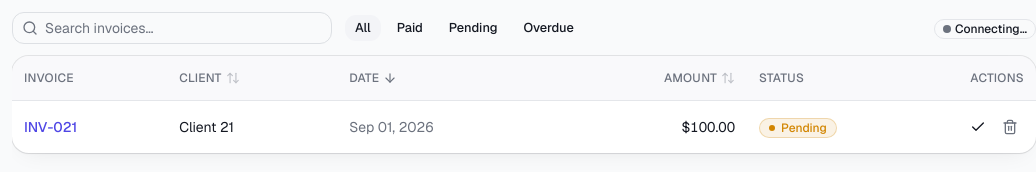
it: InvoiceTable › marks a pending invoice as paid
The width and height of the screenshot is (1036, 172).
Click the button named "Mark as paid" at (978, 126), box [964,112,992,140]
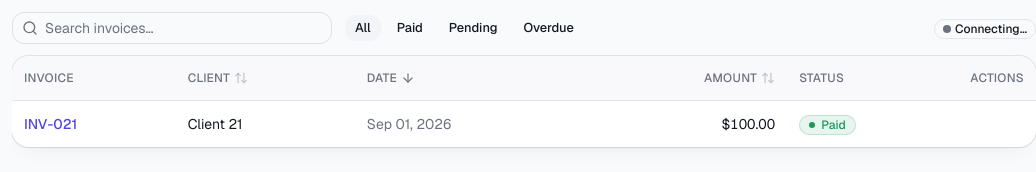
Expected: the row "INV-021 Client 21 Sep 01, 2026 $100.00 Paid" is shown, [12,100,1035,146]
